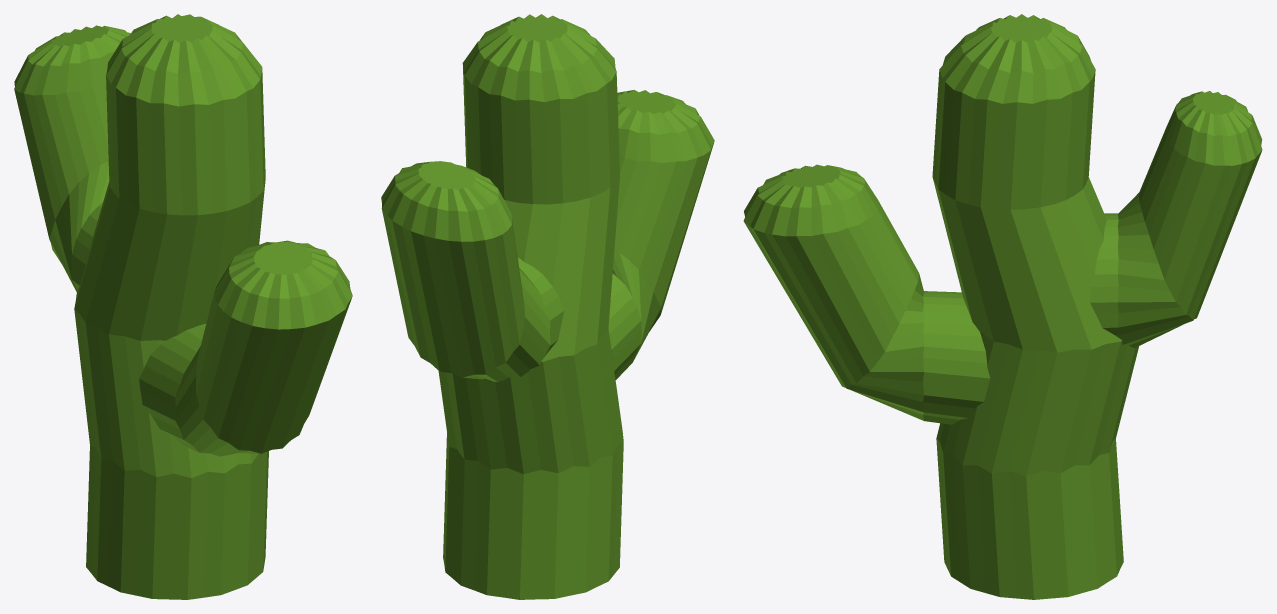
Rendered from cactis.fbx.
The picture shows the model from 3 angles, left to right: view 1: azimuth 30°, elevation 25°; view 2: azimuth 150°, elevation 25°; view 3: azimuth 270°, elevation 25°; orthographic projection.
Visible parts, largest first — view 1: Cylinder.002; view 2: Cylinder.002; view 3: Cylinder.002.
Part boxes in pixels (x1,y1,x2,y2): Cylinder.002: (14, 14, 352, 599); Cylinder.002: (381, 14, 714, 599); Cylinder.002: (743, 14, 1262, 599).
Bounding box in the file's own units: 50 × 164 × 145.
